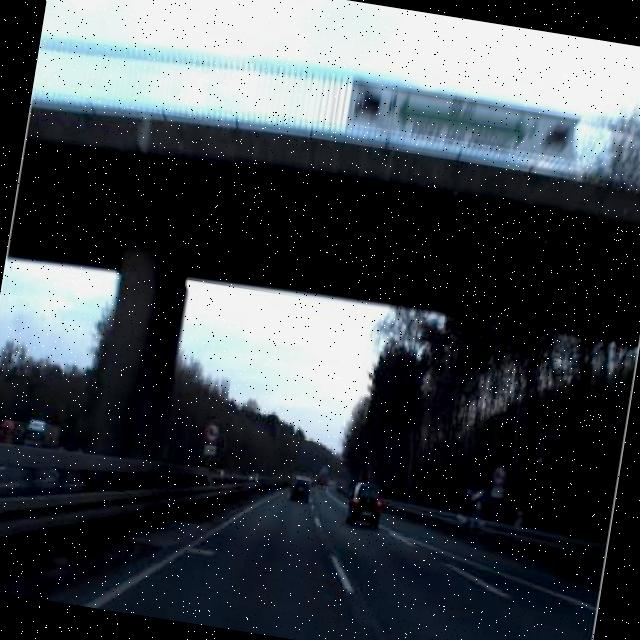Zakaz wyprzedzania: (200, 417, 226, 448), (488, 459, 512, 488)
